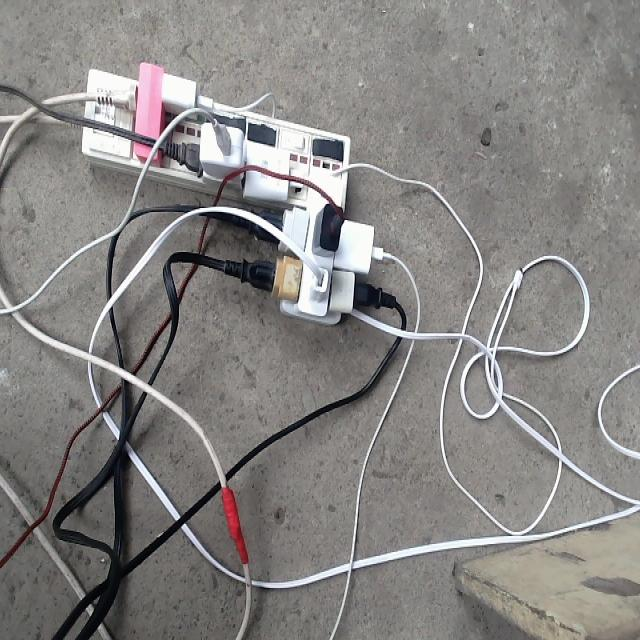-: (61, 45, 431, 367)
